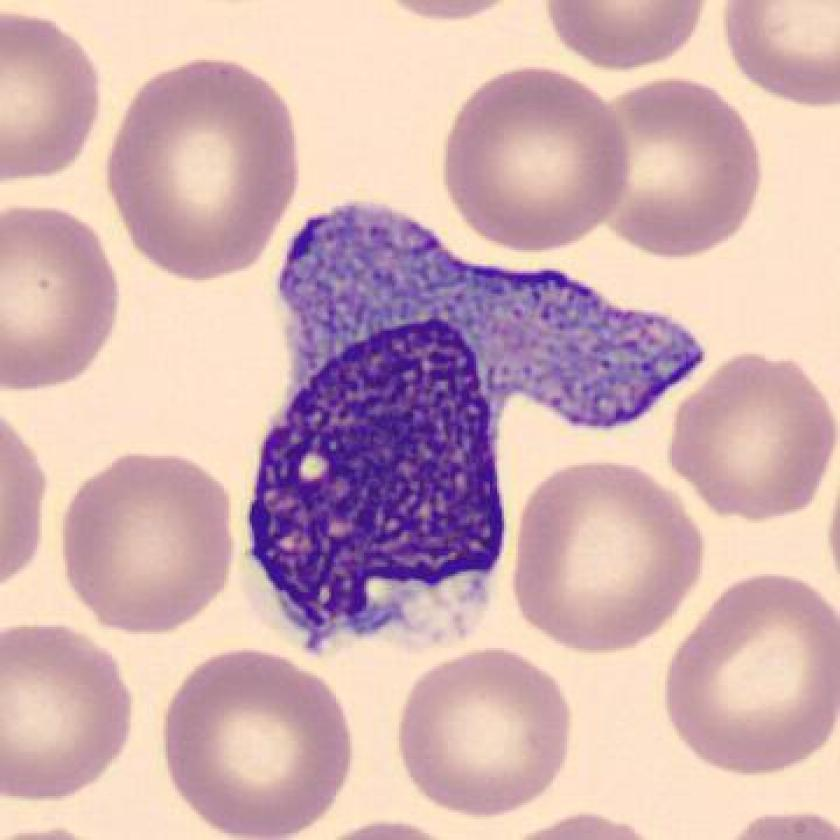monocyte: (223, 182, 727, 672)
